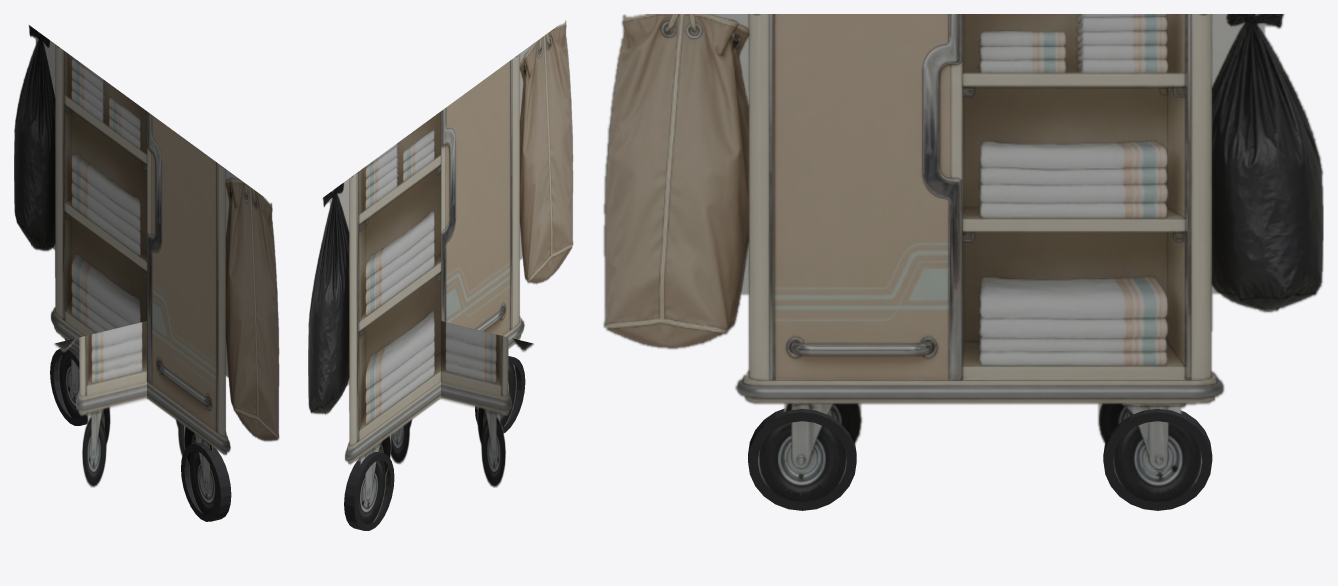
File: housekeeping_cart.glb
The picture shows the model from 3 angles, left to right: view 1: azimuth 30°, elevation 25°; view 2: azimuth 150°, elevation 25°; view 3: azimuth 270°, elevation 25°; orthographic projection. The views are drawn at different scales.
Parts seen in each view (by area): view 1: housekeeping_cart, wheel_BC, wheel_FC; view 2: housekeeping_cart, wheel_FC, wheel_BC; view 3: housekeeping_cart, wheel_BC, wheel_FC.
Boxes of the visible parts, x1,y1,x2,y2 form: housekeeping_cart: (14, 25, 279, 514); wheel_BC: (181, 443, 231, 521); wheel_FC: (50, 347, 87, 425); housekeeping_cart: (308, 20, 573, 523); wheel_FC: (344, 452, 394, 530); wheel_BC: (475, 356, 525, 433); housekeeping_cart: (603, 14, 1323, 501); wheel_BC: (748, 408, 856, 510); wheel_FC: (1103, 409, 1212, 510).
Size of the model in its own units: 0.5493 by 0.9797 by 1.3.
2 materials, 1 textured.
